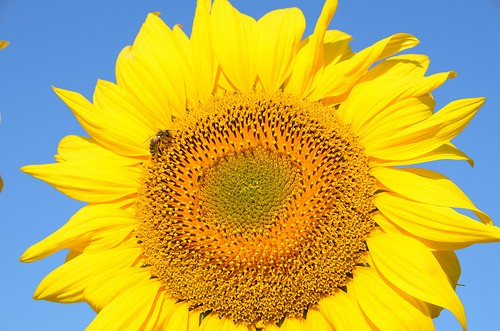flower: (10, 1, 500, 331)
